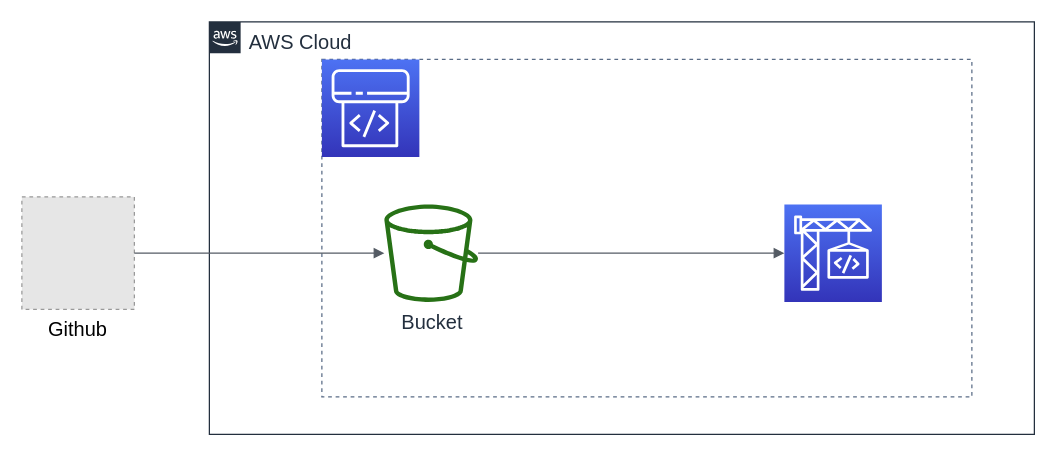
Some shapes in this 1056 by 456 pixel diagram are drawn without their labels. Grey dashed boxes stand in for pictures. The shapes that lost their labels are listed below. From the top down, each one's box as (x1, y1, x2, y2) in pixels, then its label:
(321, 58, 972, 397): CodePipeline
(783, 203, 882, 302): CodeBuild (CDK deploy)
